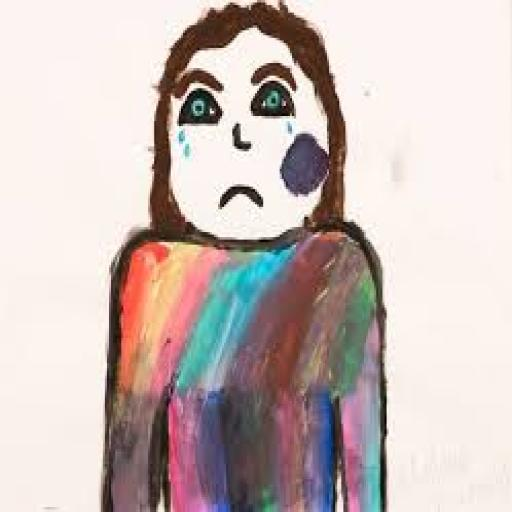person: (94, 0, 392, 509)
